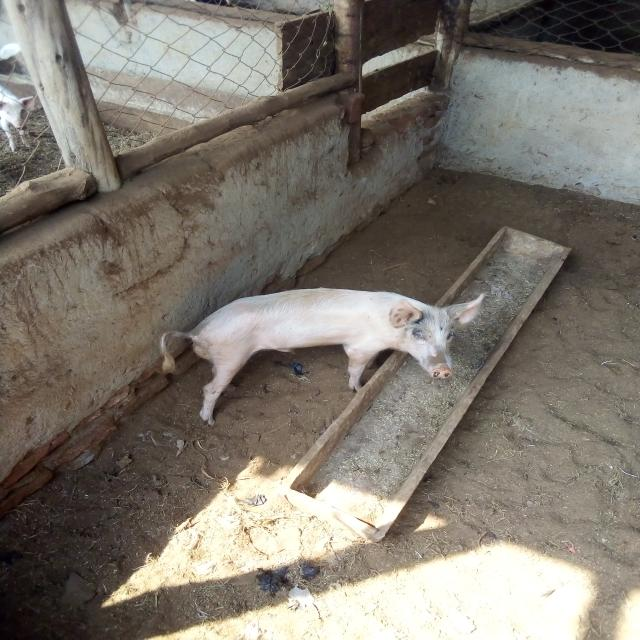pig: (97, 210, 540, 492)
